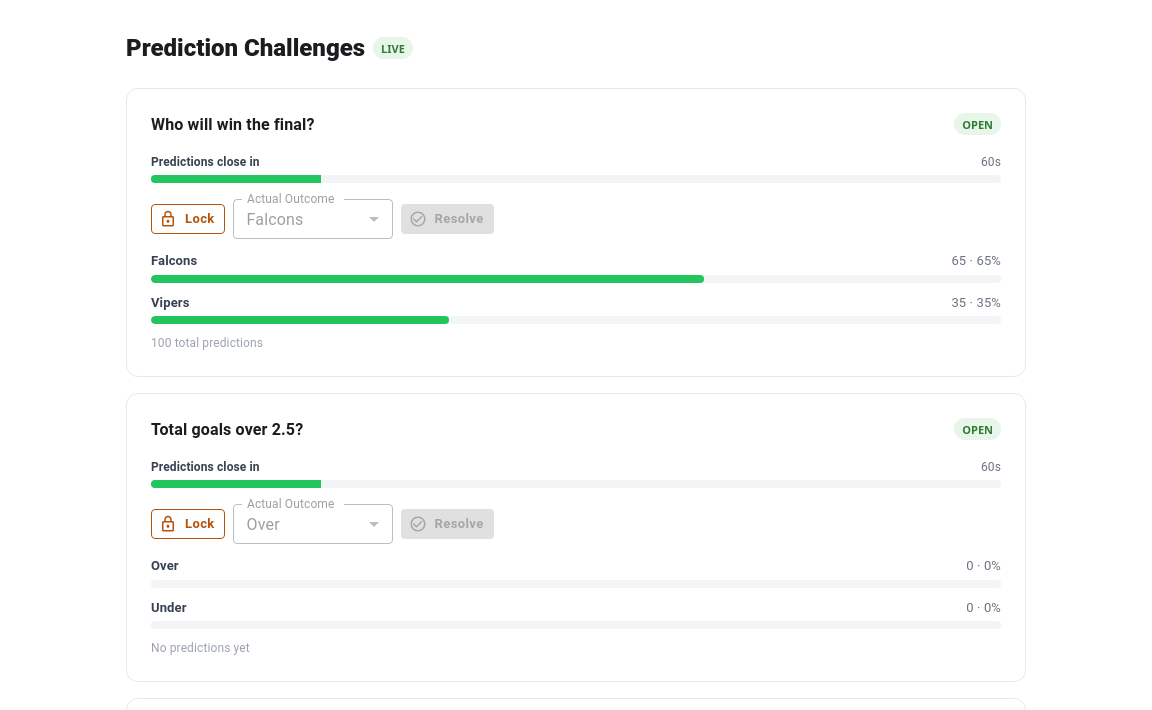
PredictionLiveDashboard › locks an open market and optimistically reflects the locked state
Expected: the text "Who will win the final?" is shown, 151,115 -> 315,134
Click the button "Lock" below "Who will win the final?" at (188, 219), box 151,204 -> 225,234
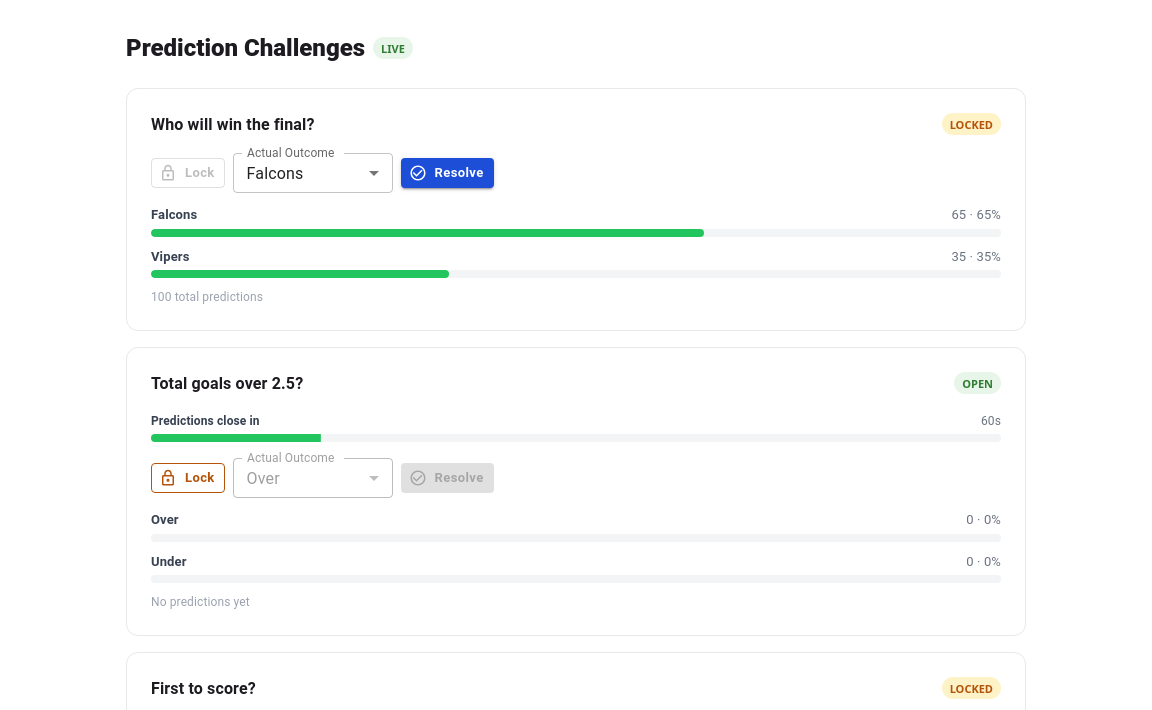
Now the element with test id "market-state-m1" reads "LOCKED", box 950,116 -> 993,132
